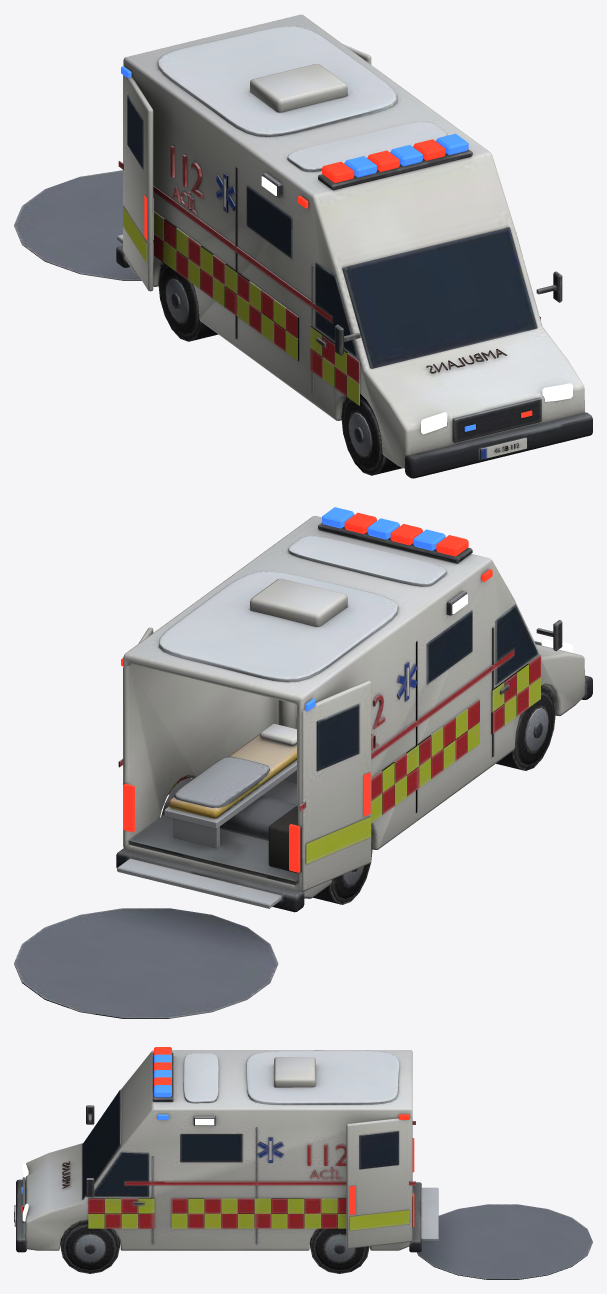
Rendered from ambulance_open.glb.
3 views of the same model, one above another, from view 1: azimuth 30°, elevation 25°; view 2: azimuth 150°, elevation 25°; view 3: azimuth 270°, elevation 25° (orthographic). The views are drawn at different scales.
Parts seen in each view (by area): view 1: ambulance_open, ambulance_open_glow; view 2: ambulance_open, ambulance_open_glow; view 3: ambulance_open, ambulance_open_glow.
Boxes of the visible parts, x1=… form: ambulance_open: x1=14, y1=14, x2=592, y2=478; ambulance_open_glow: x1=121, y1=66, x2=572, y2=434; ambulance_open: x1=14, y1=516, x2=592, y2=1018; ambulance_open_glow: x1=121, y1=507, x2=572, y2=872; ambulance_open: x1=14, y1=1050, x2=592, y2=1279; ambulance_open_glow: x1=21, y1=1047, x2=414, y2=1227.
Size of the model in its own units: 2.56 by 2.83 by 8.35.
Materials: 8 (1 with a texture image).
